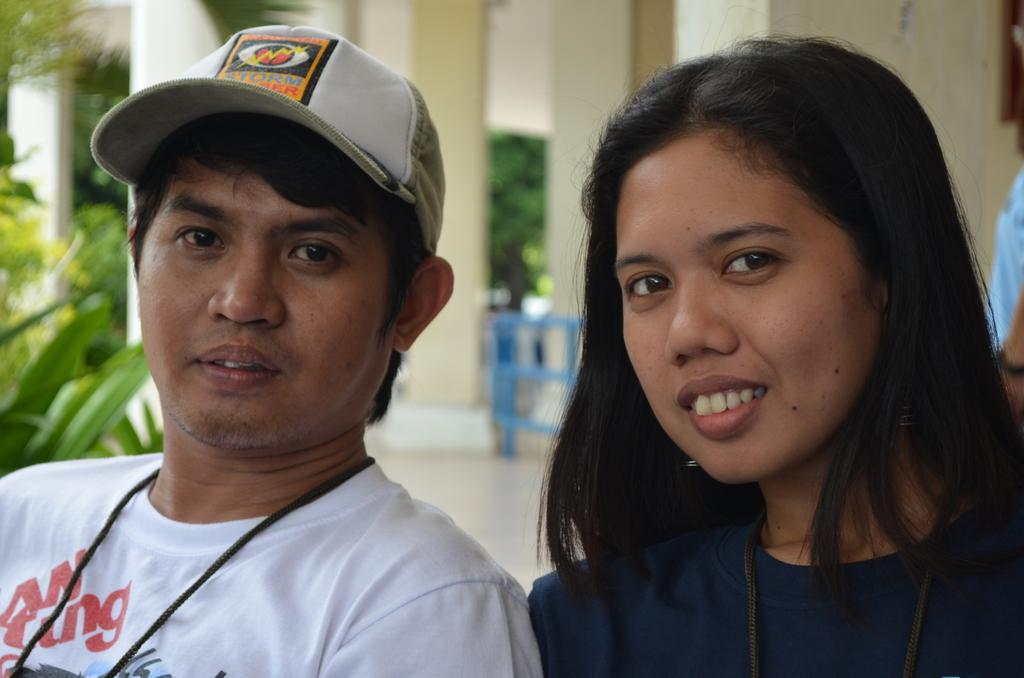Hat: (89, 22, 446, 252)
